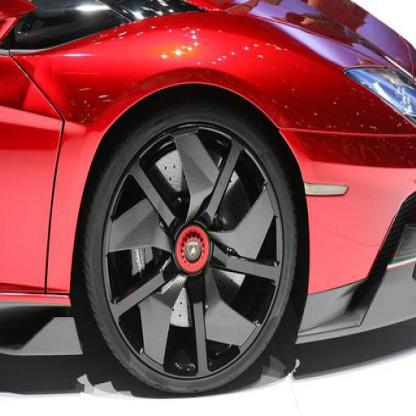Tire: (80, 93, 300, 393)
